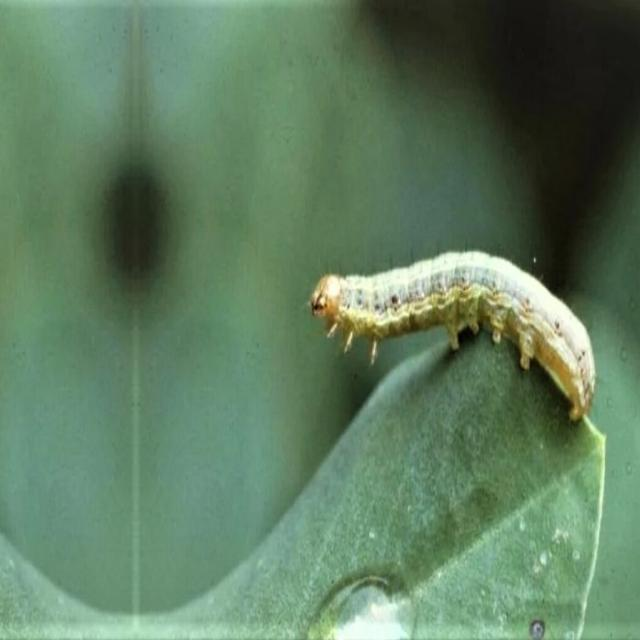Armyworm: (300, 214, 613, 444)
